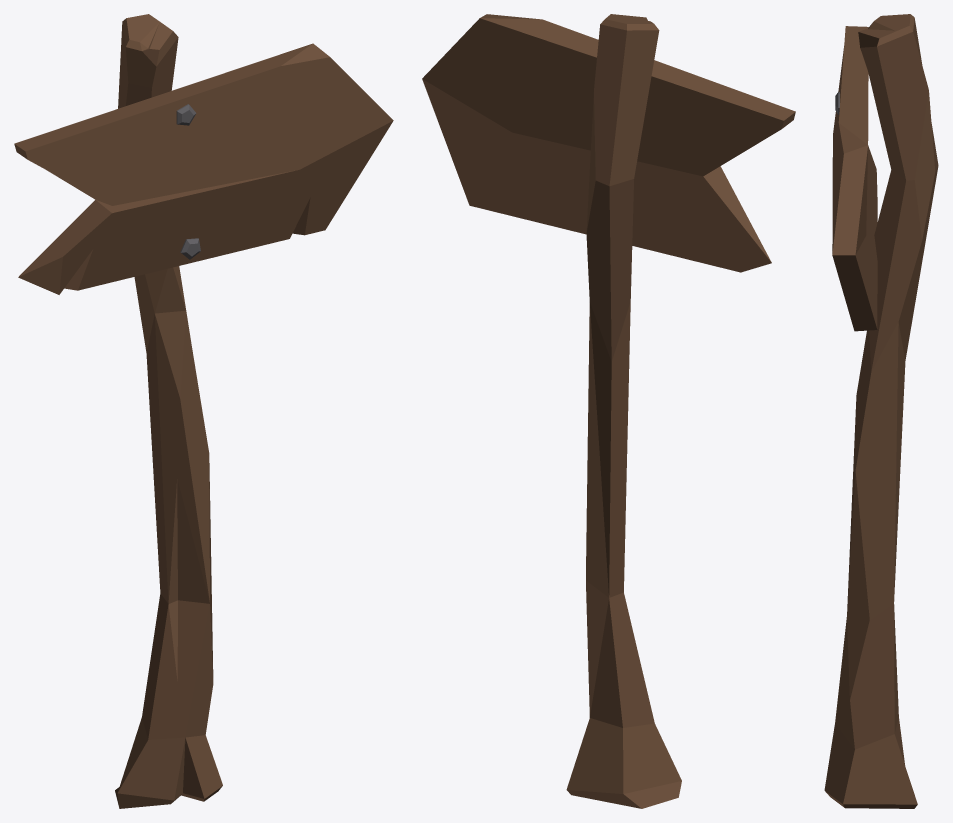
The model's file is post2.glb.
3 renders of one model, left to right at view 1: azimuth 30°, elevation 25°; view 2: azimuth 150°, elevation 25°; view 3: azimuth 270°, elevation 25°, orthographic.
Parts seen in each view (by area): view 1: post2; view 2: post2; view 3: post2.
Boxes of the visible parts, x1=… form: post2: x1=14, y1=14, x2=393, y2=808; post2: x1=422, y1=14, x2=795, y2=808; post2: x1=824, y1=14, x2=938, y2=808.
Bounding box in the file's own units: 0.4047 × 0.8208 × 0.1103.
